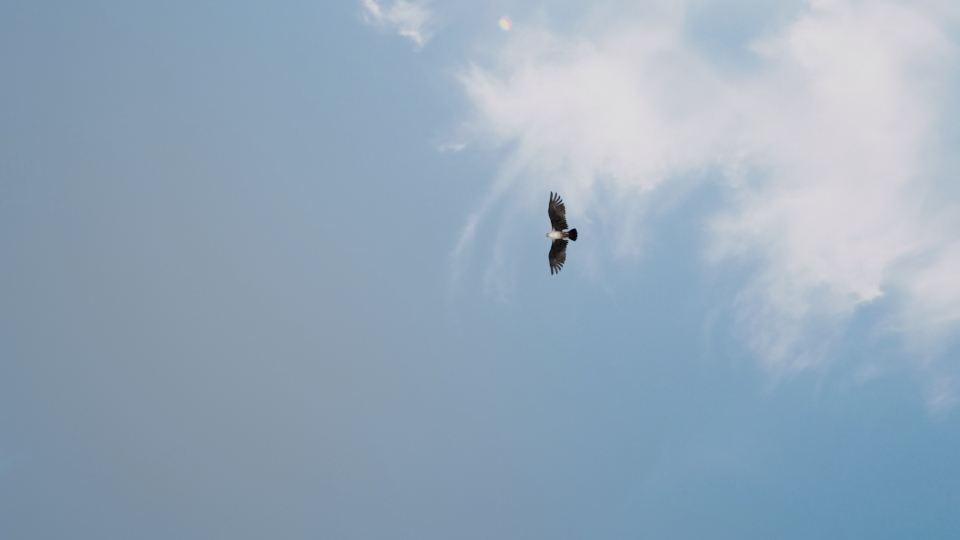bird: (544, 187, 578, 276)
